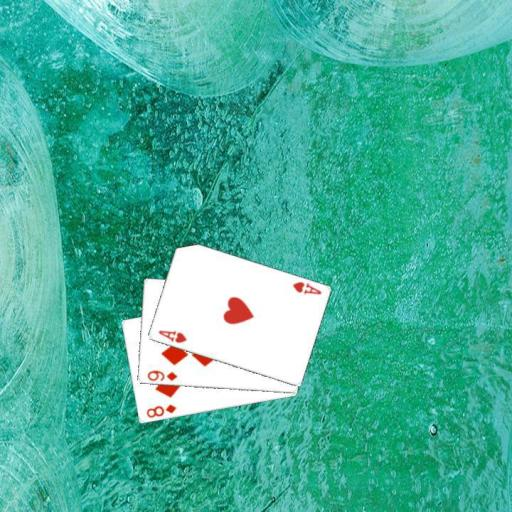8D: (143, 402, 178, 420)
9D: (144, 368, 179, 383)
AH: (155, 327, 188, 345), (289, 279, 323, 296)
